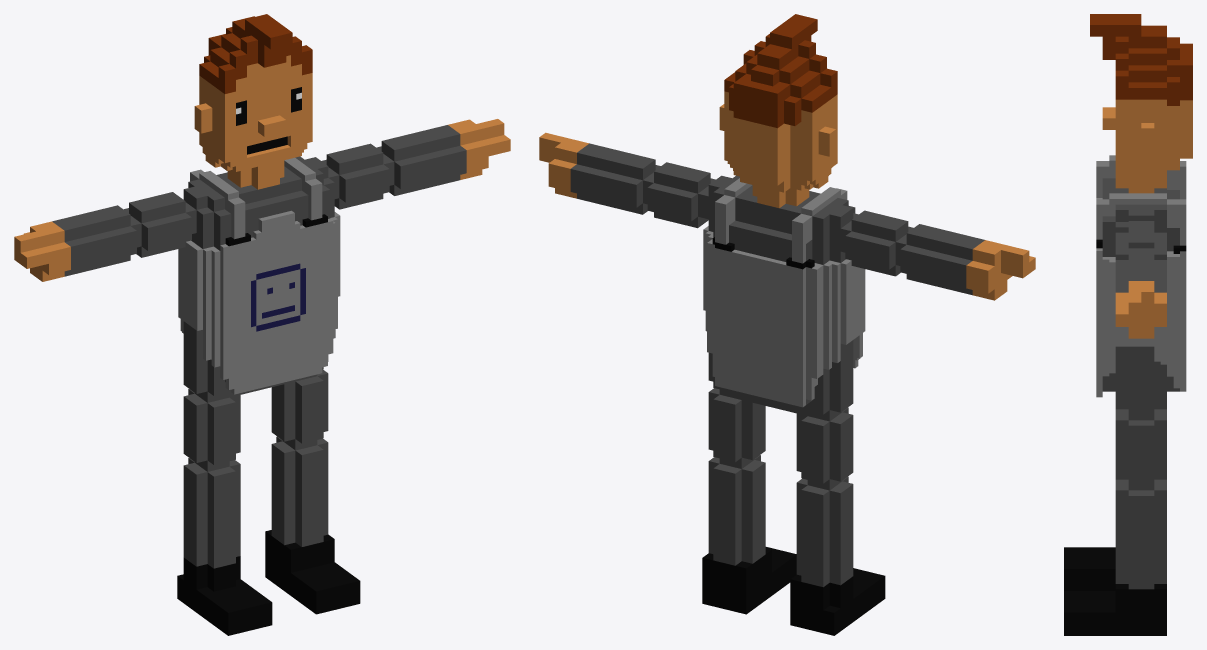
File: charecter-1.obj
3 views of the same model, side by side, from view 1: azimuth 30°, elevation 25°; view 2: azimuth 150°, elevation 25°; view 3: azimuth 270°, elevation 25° (orthographic).
Bounding box in the file's own units: 8.8 × 10 × 2.
